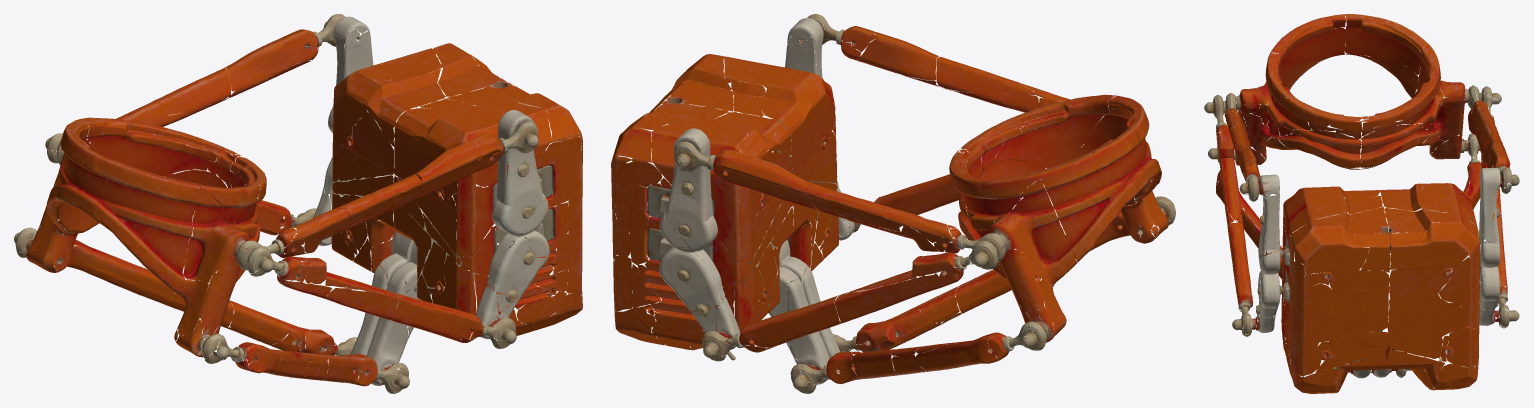
Rendered from tripo_mm.glb.
3 views of the same model, side by side, from view 1: azimuth 30°, elevation 25°; view 2: azimuth 150°, elevation 25°; view 3: azimuth 270°, elevation 25° (orthographic). The views are drawn at different scales.
Visible parts, largest first — view 1: world; view 2: world; view 3: world.
Part boxes in pixels (x1=…): world: x1=14, y1=14, x2=582, y2=393; world: x1=611, y1=14, x2=1175, y2=393; world: x1=1204, y1=14, x2=1519, y2=393.
Bounding box in the file's own units: 306 × 191 × 220.
